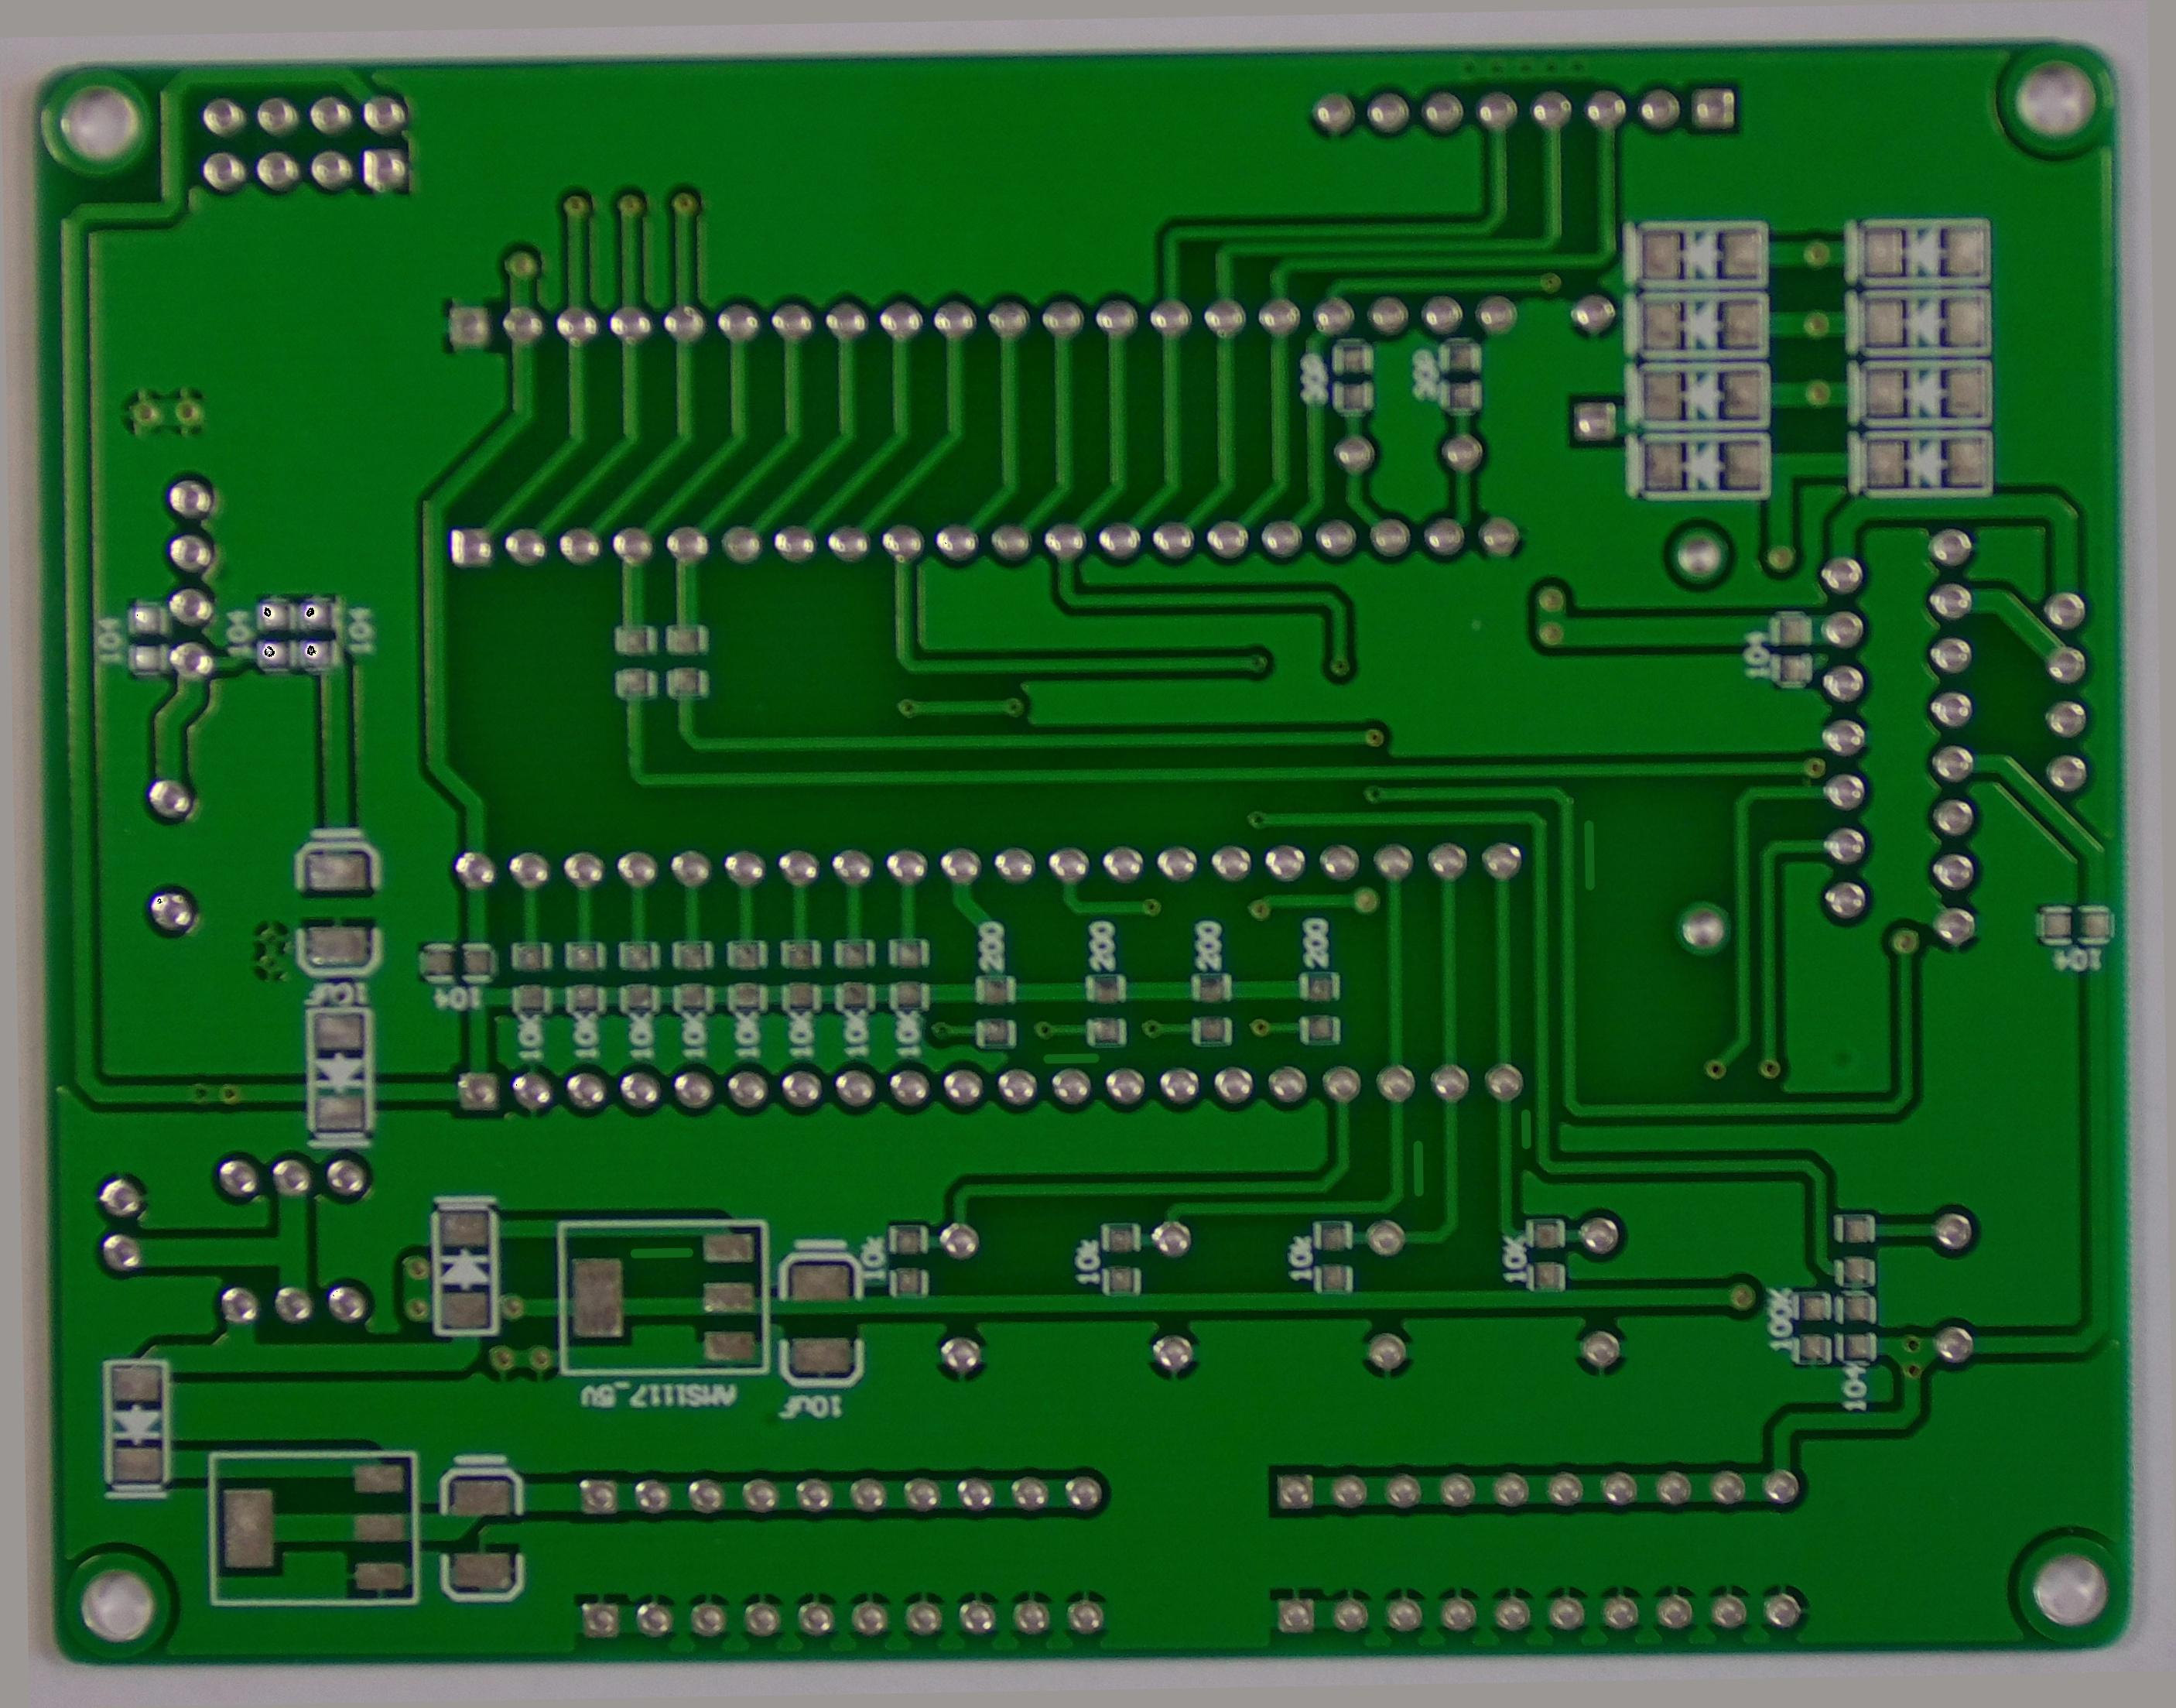spurious_copper: (1563, 812, 1616, 899), (620, 1222, 699, 1277), (1033, 1032, 1106, 1081), (1394, 1132, 1439, 1206), (1510, 1097, 1544, 1157)
